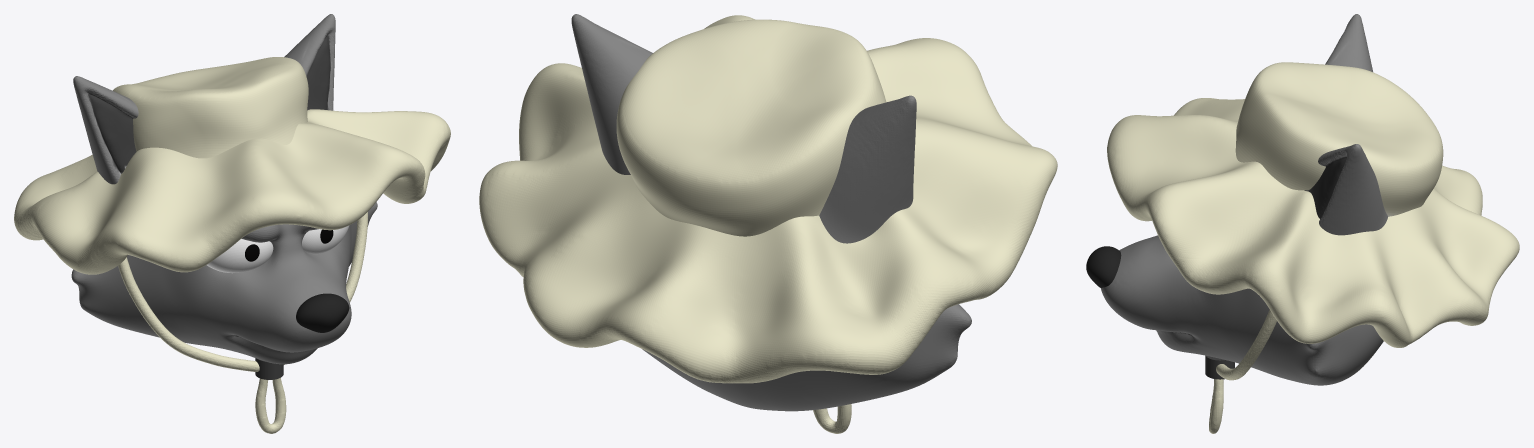
File: wolfy.glb
3 views of the same model, side by side, from view 1: azimuth 30°, elevation 25°; view 2: azimuth 150°, elevation 25°; view 3: azimuth 270°, elevation 25° (orthographic). The views are drawn at different scales.
Parts seen in each view (by area): view 1: Torus, Mirror, Cylinder (×2), Mirror 2, Mirror 1; view 2: Torus, Cylinder, Mirror, Mirror 2; view 3: Torus, Mirror, Cylinder, Mirror 2, Mirror 1.
Boxes of the visible parts, bbox=[...] form: Torus: bbox=[14, 109, 450, 274]; Mirror: bbox=[71, 14, 377, 364]; Cylinder (×2): bbox=[112, 57, 308, 379]; Mirror 2: bbox=[118, 212, 367, 433]; Mirror 1: bbox=[207, 225, 349, 332]; Torus: bbox=[479, 15, 1057, 383]; Cylinder: bbox=[616, 19, 886, 236]; Mirror: bbox=[571, 14, 971, 411]; Mirror 2: bbox=[813, 404, 851, 433]; Torus: bbox=[1107, 98, 1519, 347]; Mirror: bbox=[1101, 14, 1388, 385]; Cylinder: bbox=[1235, 62, 1443, 216]; Mirror 2: bbox=[1209, 309, 1276, 433]; Mirror 1: bbox=[1086, 246, 1121, 287].
Size of the model in its own units: 1.4 by 1.2 by 1.34.
